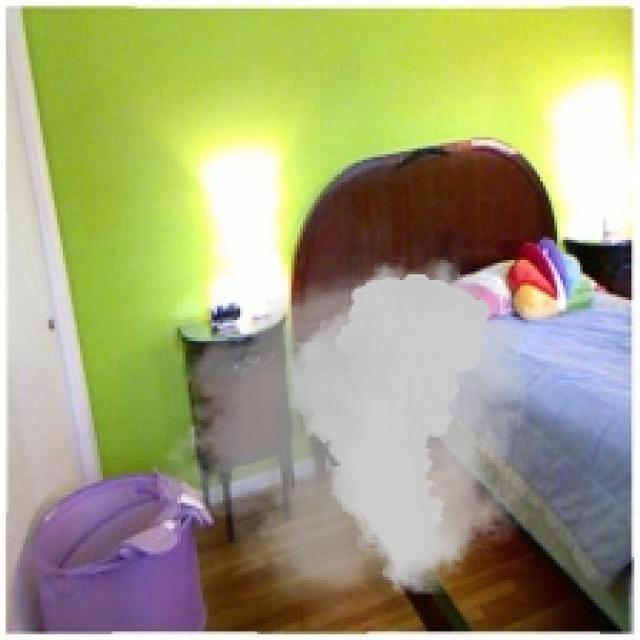smoke: (140, 249, 560, 617)
